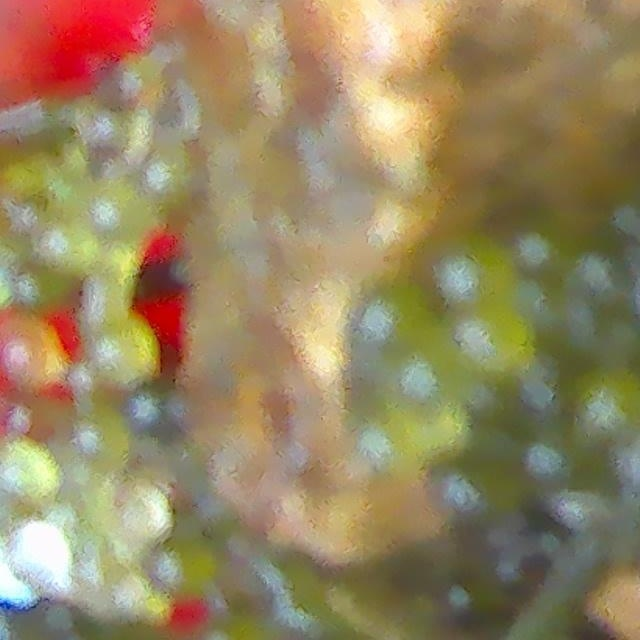SeaGrape: (457, 299, 541, 383), (431, 236, 511, 310), (353, 288, 426, 367), (4, 317, 66, 390), (0, 436, 62, 501), (9, 518, 72, 580), (119, 482, 174, 544), (584, 374, 640, 433)
